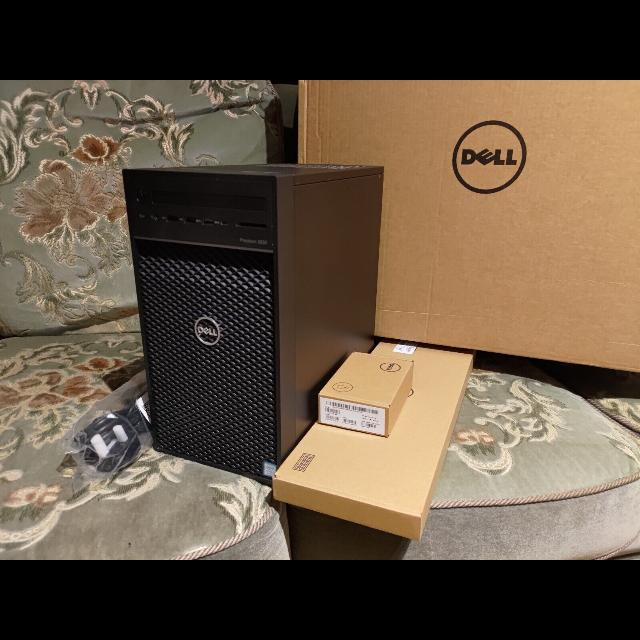Desktop-PC: (120, 163, 384, 487)
